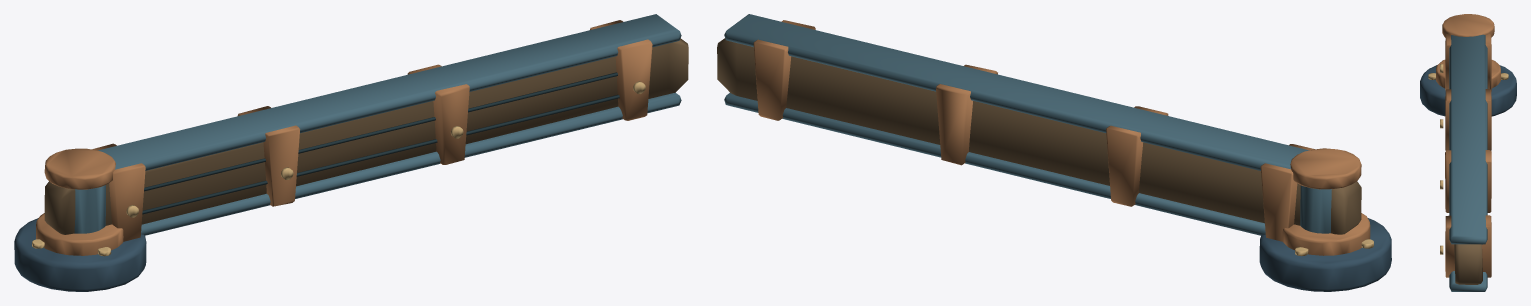
The model's file is STURMBASTION_DEFLECTOR.lo.glb.
3 views of the same model, side by side, from view 1: azimuth 30°, elevation 25°; view 2: azimuth 150°, elevation 25°; view 3: azimuth 270°, elevation 25° (orthographic). The views are drawn at different scales.
Parts seen in each view (by area): view 1: DeflectorPivot_Geometry, STURMBASTION_DEFLECTOR_Geometry; view 2: DeflectorPivot_Geometry, STURMBASTION_DEFLECTOR_Geometry; view 3: DeflectorPivot_Geometry, STURMBASTION_DEFLECTOR_Geometry.
Part boxes in pixels (box(x1,y1,x2,y2)): DeflectorPivot_Geometry: box(44, 14, 688, 241); STURMBASTION_DEFLECTOR_Geometry: box(14, 213, 146, 291); DeflectorPivot_Geometry: box(717, 14, 1361, 241); STURMBASTION_DEFLECTOR_Geometry: box(1259, 213, 1391, 291); DeflectorPivot_Geometry: box(1440, 14, 1494, 291); STURMBASTION_DEFLECTOR_Geometry: box(1420, 59, 1516, 116).
Bounding box in the file's own units: 4.26 × 0.64 × 0.7398.
